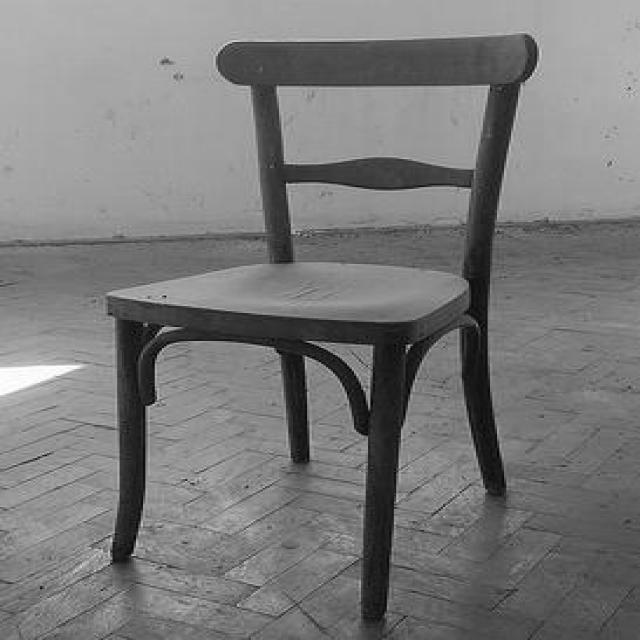chair: (102, 32, 564, 632)
